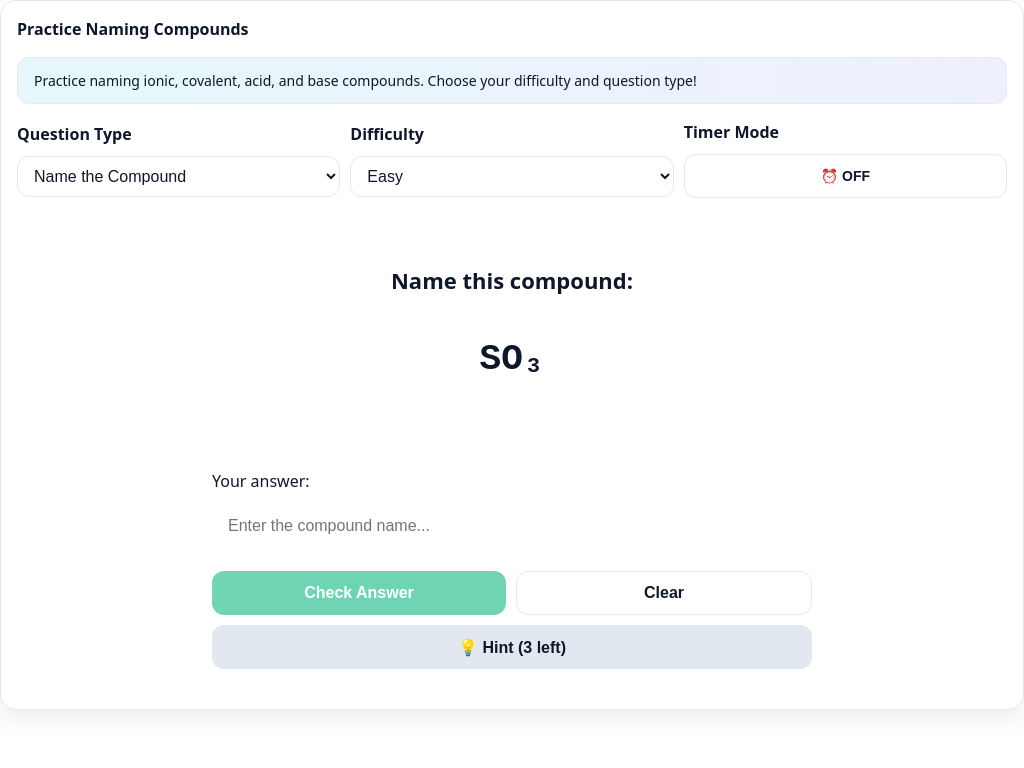
Test case: Practice Component › allows changing question type to formula writing
Select "Write the Formula" in the dropdown labelled "Question Type" at (179, 176), box [17,156,340,196]
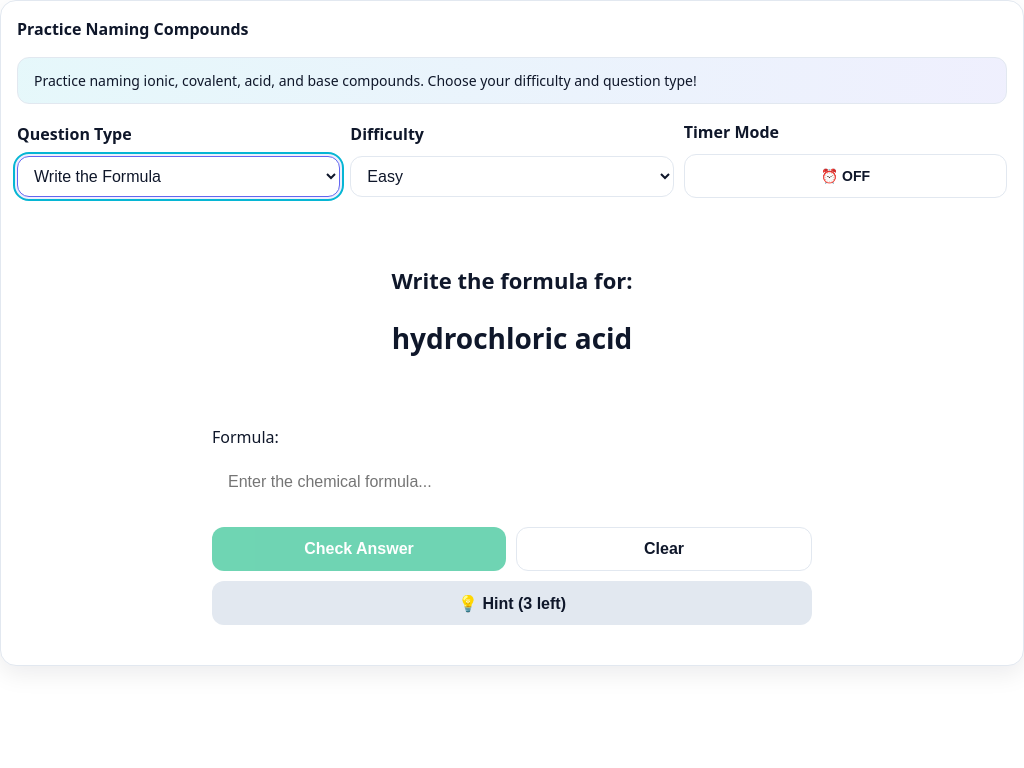
Result: the heading "Write the formula for:" is shown at [392,265,632,295]
